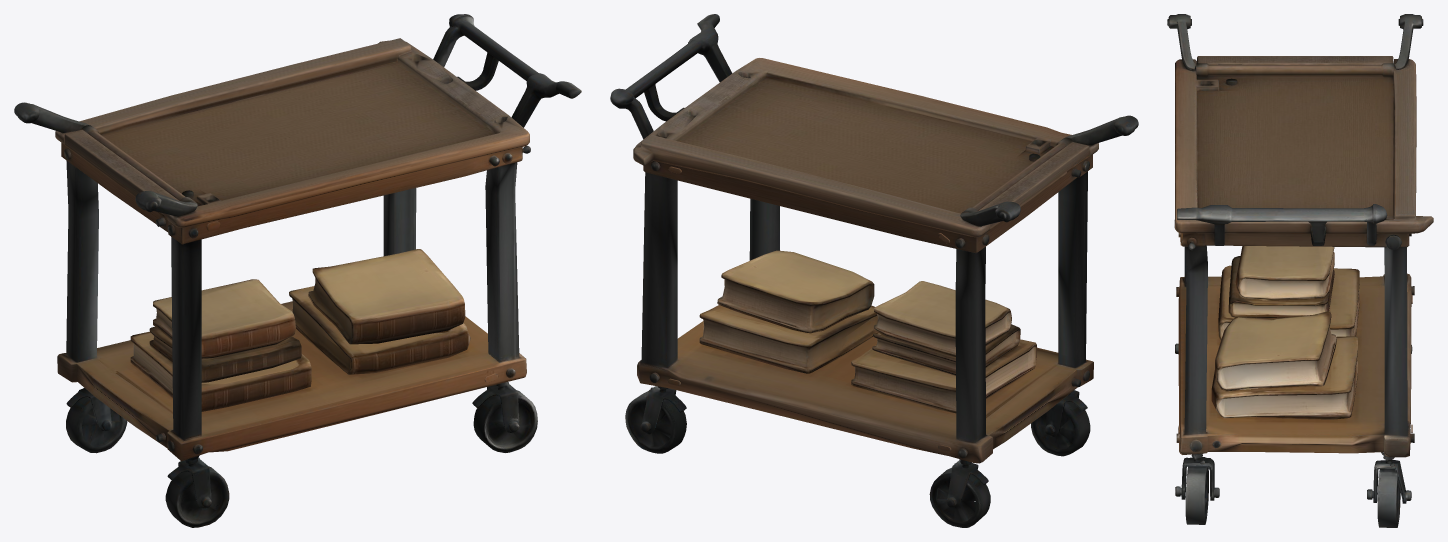
Rendered from library-cart.glb.
3 views of the same model, side by side, from view 1: azimuth 30°, elevation 25°; view 2: azimuth 150°, elevation 25°; view 3: azimuth 270°, elevation 25° (orthographic). The views are drawn at different scales.
Visible parts, largest first — view 1: tripo_94ea0f32_e87e_447f_8c00_66cace3bcebb; view 2: tripo_94ea0f32_e87e_447f_8c00_66cace3bcebb; view 3: tripo_94ea0f32_e87e_447f_8c00_66cace3bcebb.
Part boxes in pixels (x1=…): tripo_94ea0f32_e87e_447f_8c00_66cace3bcebb: x1=14, y1=14, x2=581, y2=527; tripo_94ea0f32_e87e_447f_8c00_66cace3bcebb: x1=610, y1=14, x2=1138, y2=527; tripo_94ea0f32_e87e_447f_8c00_66cace3bcebb: x1=1167, y1=14, x2=1433, y2=527.
Bounding box in the file's own units: 0.9995 × 0.7671 × 0.5474.
Materials: 1 (1 with a texture image).
